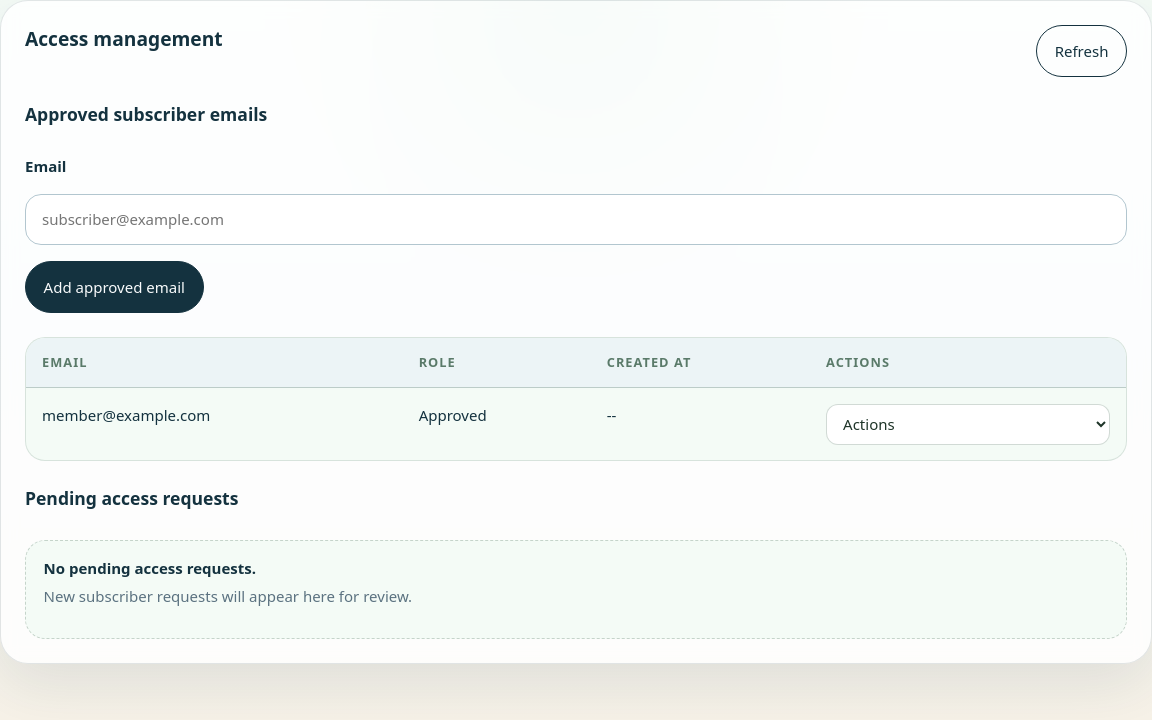
AdminPage › removes an email after confirmation
Expected: the text "member@example.com" is shown, [26,388,403,460]
Step 1. Select "Remove" in the dropdown named "Actions for member@example.com" → (968, 424), box [826,404,1110,445]
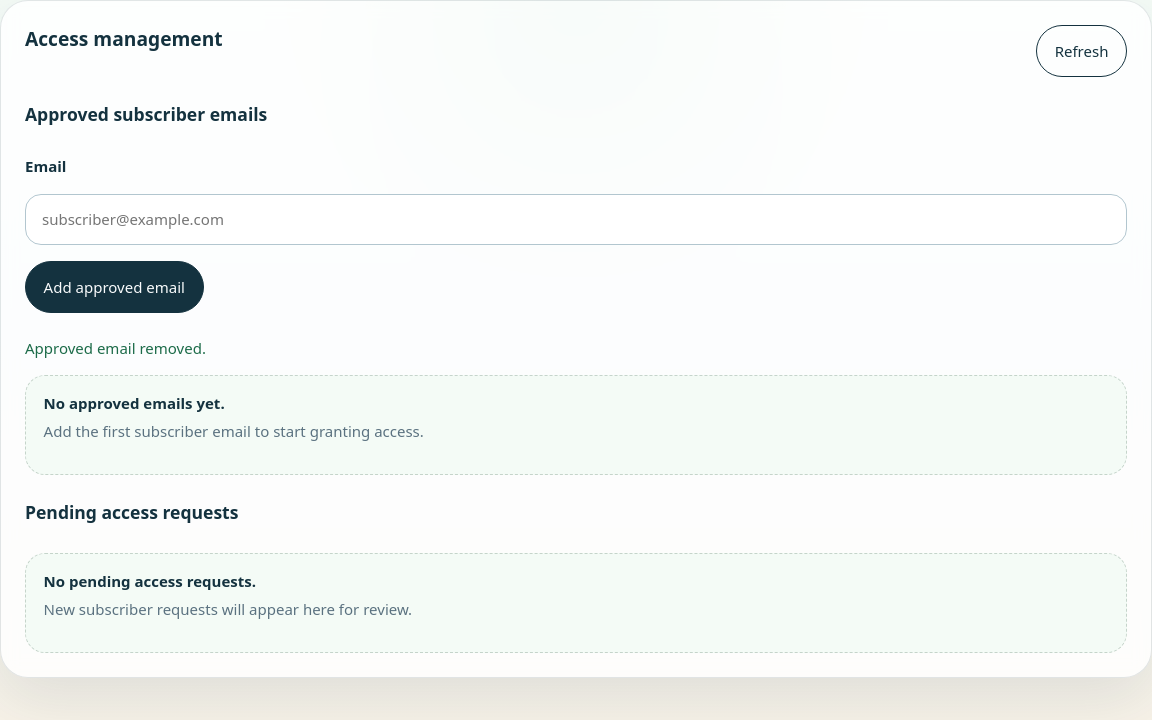
Result: the text "Approved email removed." is shown at [25,338,206,358]
